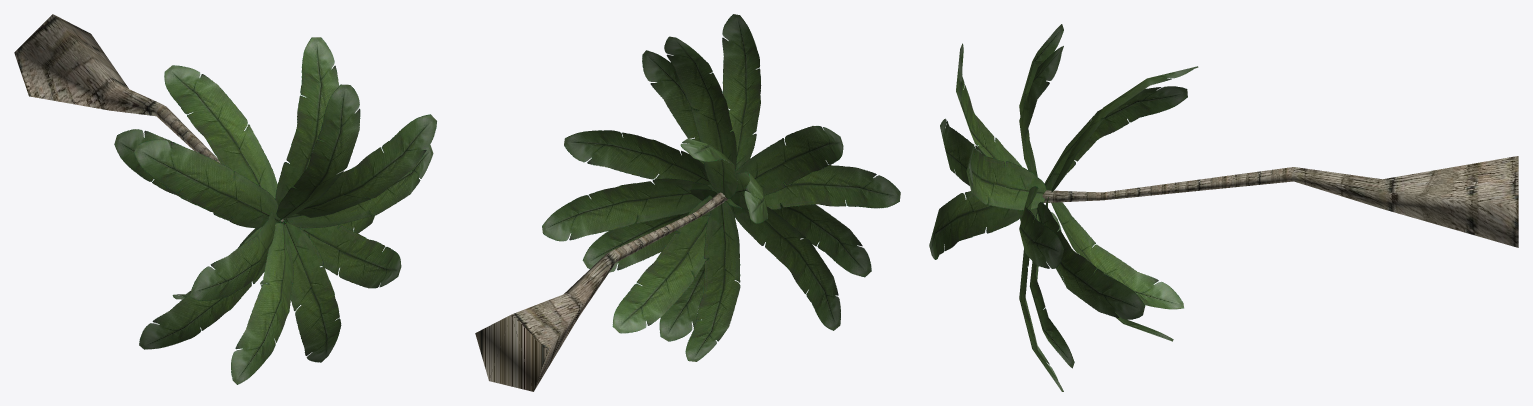
The model's file is palm3.obj.
3 renders of one model, left to right at view 1: azimuth 30°, elevation 25°; view 2: azimuth 150°, elevation 25°; view 3: azimuth 270°, elevation 25°, orthographic. The views are drawn at different scales.
Visible parts, largest first — view 1: l1_70, palm_tree1; view 2: l1_70, palm_tree1; view 3: l1_70, palm_tree1.
Part boxes in pixels (x1,y1,x2,y2): l1_70: (114, 37, 436, 384); palm_tree1: (14, 14, 285, 222); l1_70: (542, 14, 900, 361); palm_tree1: (475, 192, 727, 391); l1_70: (929, 24, 1198, 391); palm_tree1: (1042, 156, 1518, 247).
Size of the model in its own units: 22.75 by 23.76 by 36.4.
Materials: 2 (2 with a texture image).
